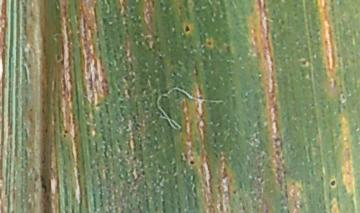tarspot: (186, 157, 197, 169), (327, 177, 339, 188), (181, 22, 191, 34), (61, 127, 70, 135), (139, 168, 147, 177)
